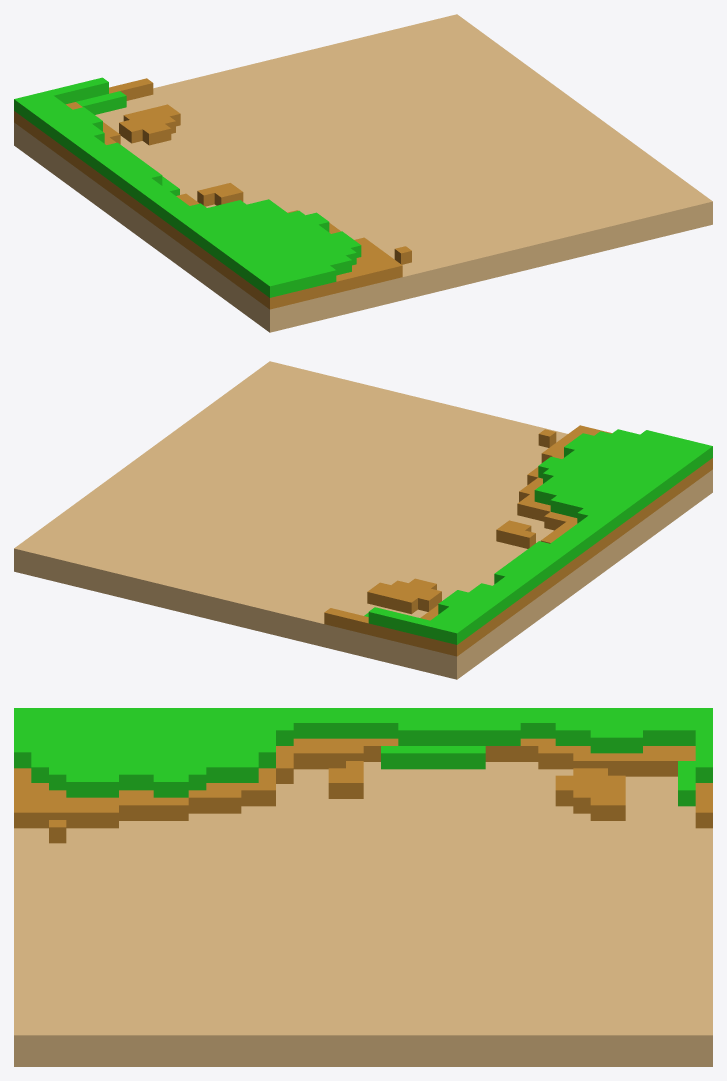
File: road1_left_side.obj
3 renders of one model, top to bottom at view 1: azimuth 30°, elevation 25°; view 2: azimuth 150°, elevation 25°; view 3: azimuth 270°, elevation 25°, orthographic. The views are drawn at different scales.
Bounding box in the file's own units: 4 × 0.4 × 4.
1 material, 1 textured.
